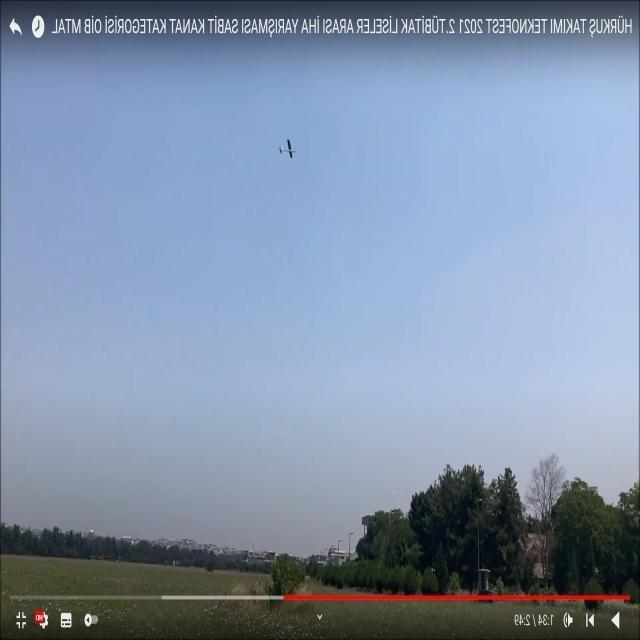Airplane: (277, 134, 297, 160)
